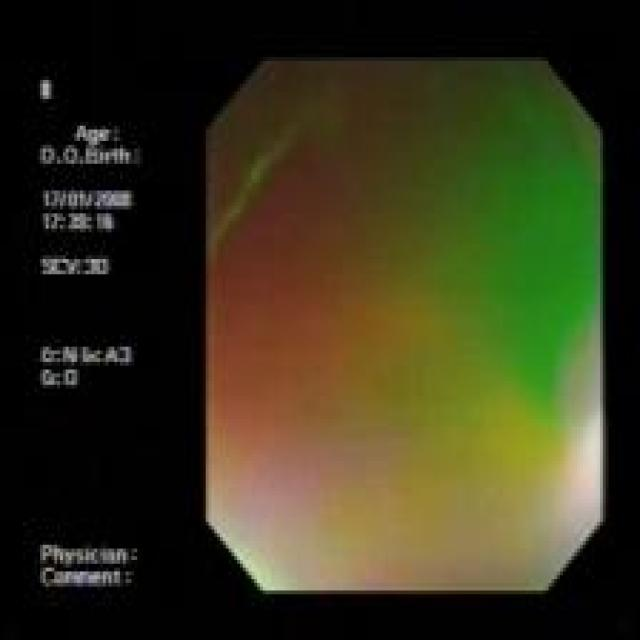color misalignment: (207, 60, 601, 591), (36, 77, 142, 594)
